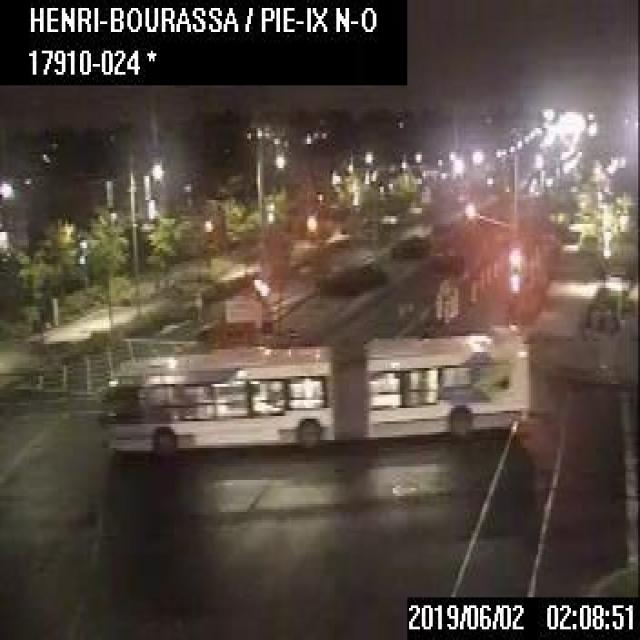bus: (99, 322, 528, 457)
construction: (193, 294, 276, 349), (430, 251, 462, 317), (468, 275, 476, 301), (452, 285, 459, 314), (484, 262, 491, 285), (434, 292, 440, 317), (491, 253, 497, 274), (478, 268, 483, 293), (442, 299, 447, 323), (447, 293, 452, 316)
